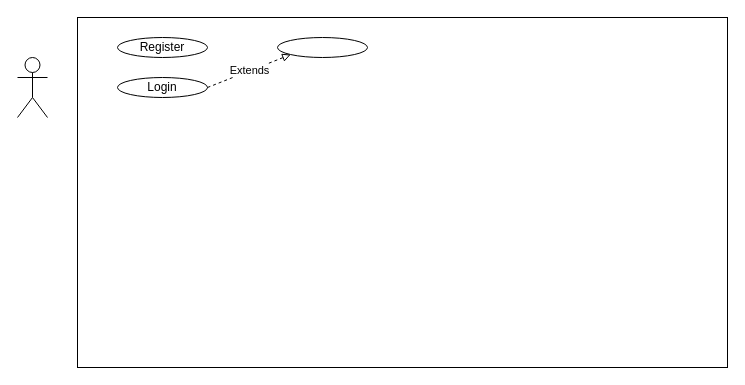
Some shapes in this 745 by 385 pixel diagram are drawn without their labels. The centre of each missing label's shape, as x and y in pixels:
"logout" goes at [322,47].
"User" goes at [32,87].
